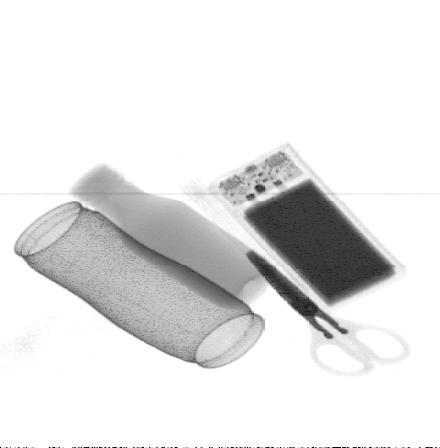Powerbank: (203, 141, 413, 310)
Scissors: (241, 245, 410, 376)
